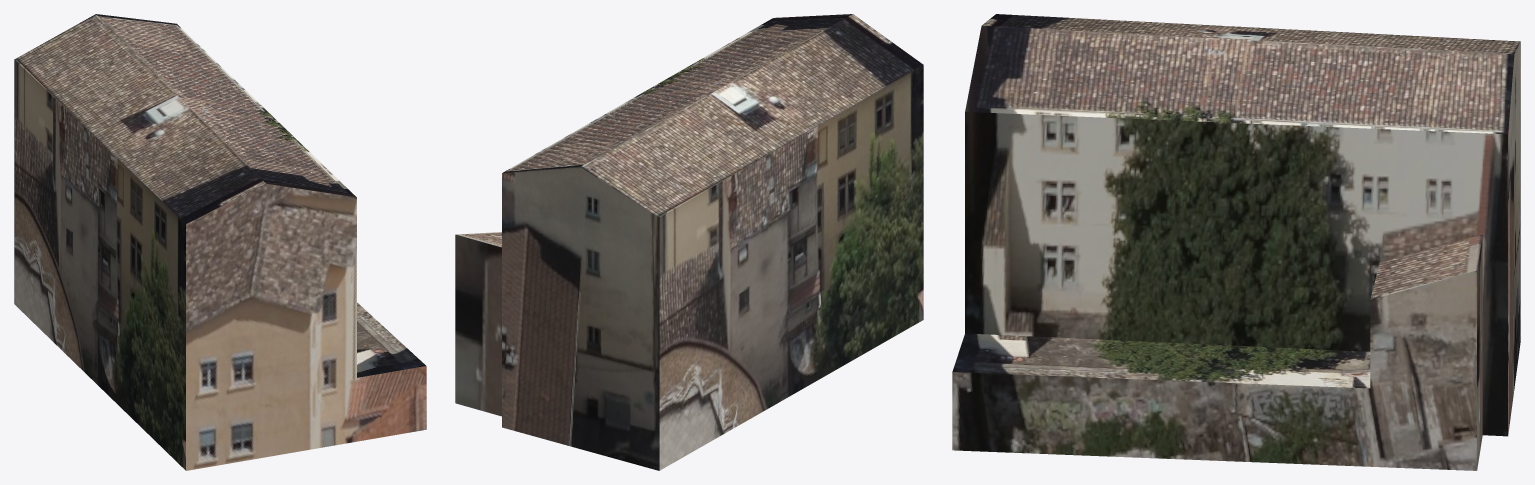
3 renders of one model, left to right at view 1: azimuth 30°, elevation 25°; view 2: azimuth 150°, elevation 25°; view 3: azimuth 270°, elevation 25°, orthographic. The views are drawn at different scales.
Parts seen in each view (by area): view 1: Z_UP; view 2: Z_UP; view 3: Z_UP.
Boxes of the visible parts, left/top/right/bottom form: Z_UP: left=14, top=14, right=426, bottom=470; Z_UP: left=455, top=14, right=923, bottom=470; Z_UP: left=952, top=14, right=1520, bottom=470.
Size of the model in its own units: 16.8 by 17.09 by 26.22.
2 materials, 1 textured.
